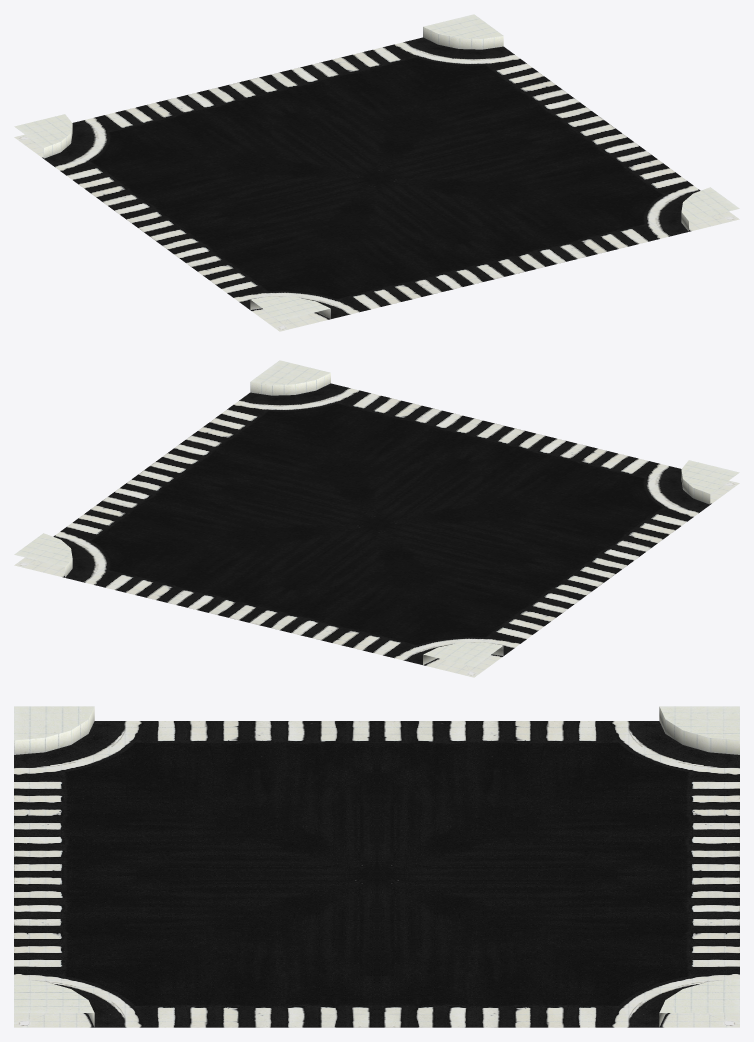
Rendered from 4way.fbx.
3 views of the same model, one above another, from view 1: azimuth 30°, elevation 25°; view 2: azimuth 150°, elevation 25°; view 3: azimuth 270°, elevation 25° (orthographic). The views are drawn at different scales.
Parts seen in each view (by area): view 1: Plane; view 2: Plane; view 3: Plane.
Boxes of the visible parts, x1,y1,x2,y2 form: Plane: (14,14,739,331); Plane: (14,360,739,677); Plane: (14,706,739,1027).
Bounding box in the file's own units: 4500 × 100 × 4500.
